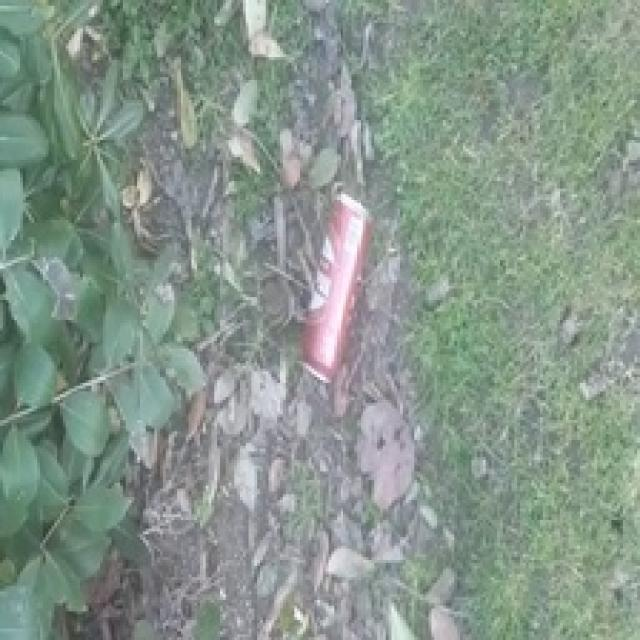recyclable: (297, 194, 375, 386)
